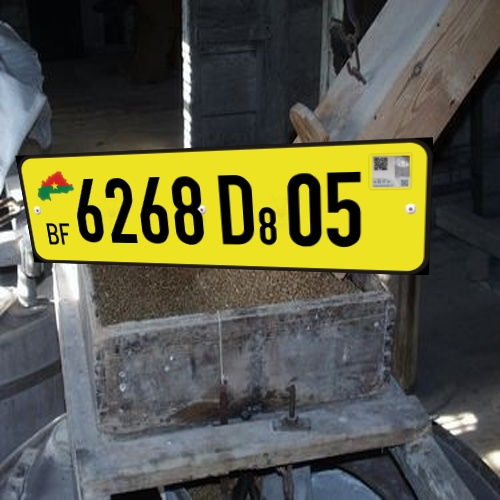plate: (9, 133, 441, 287)
